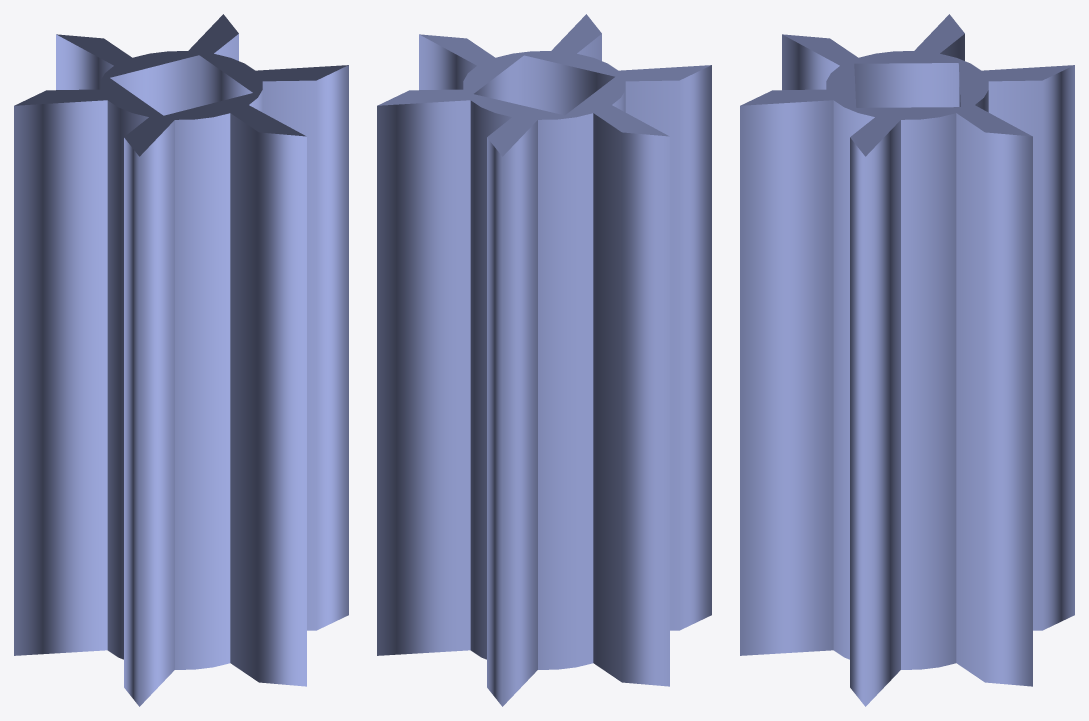
Rendered from Copie de Pignon Ass02^Copie de Assemblage 02_Horloge Comtoise Verge - Sonnerie.obj.
3 views of the same model, side by side, from view 1: azimuth 30°, elevation 25°; view 2: azimuth 150°, elevation 25°; view 3: azimuth 270°, elevation 25° (orthographic).
Parts seen in each view (by area): view 1: Face_7, Face_10, Face_19, Face_12, Face_9, Face_2, Face_18, Face_8, Face_1, Face_5; view 2: Face_15, Face_6, Face_17, Face_8, Face_5, Face_2, Face_16, Face_4, Face_1, Face_13; view 3: Face_11, Face_14, Face_21, Face_4, Face_13, Face_2, Face_20, Face_12, Face_1, Face_9.
Part boxes in pixels (x1,y1,x2,y2): Face_7: (14,100,107,655); Face_10: (230,113,306,686); Face_19: (175,113,230,669); Face_12: (262,65,348,630); Face_9: (139,120,174,706); Face_2: (15,14,348,156); Face_18: (107,100,148,659); Face_8: (124,138,139,706); Face_1: (110,55,252,115); Face_5: (56,34,113,89); Face_15: (377,100,470,655); Face_6: (593,113,669,686); Face_17: (538,113,593,669); Face_8: (625,65,711,630); Face_5: (502,120,537,706); Face_2: (378,14,711,156); Face_16: (470,100,511,659); Face_4: (487,138,502,706); Face_1: (474,55,614,115); Face_13: (419,34,476,89); Face_11: (740,100,833,655); Face_14: (956,113,1032,686); Face_21: (901,113,956,669); Face_4: (988,65,1074,630); Face_13: (865,120,900,706); Face_2: (741,14,1074,156); Face_20: (833,100,874,659); Face_12: (850,138,865,706); Face_1: (854,63,960,107); Face_9: (782,34,839,89).
Size of the model in its own units: 0.00641 by 0.0115 by 0.00634.
